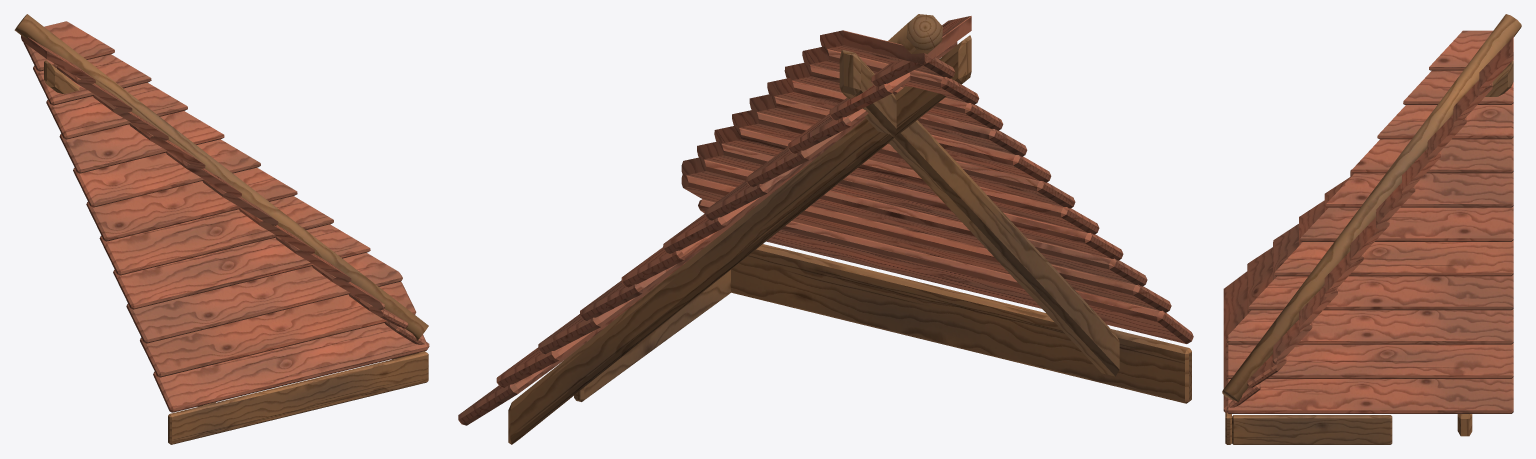
The model's file is cati_kosesi.glb.
The picture shows the model from 3 angles, left to right: view 1: azimuth 30°, elevation 25°; view 2: azimuth 150°, elevation 25°; view 3: azimuth 270°, elevation 25°; orthographic projection. The views are drawn at different scales.
Visible parts, largest first — view 1: cati_kosesi; view 2: cati_kosesi; view 3: cati_kosesi.
Boxes of the visible parts, box(x1,y1,x2,y2) form: cati_kosesi: box(14, 14, 429, 444); cati_kosesi: box(458, 14, 1193, 444); cati_kosesi: box(1222, 14, 1521, 444).
Bounding box in the file's own units: 3.71 × 4.24 × 3.7.
Materials: 1 (1 with a texture image).
